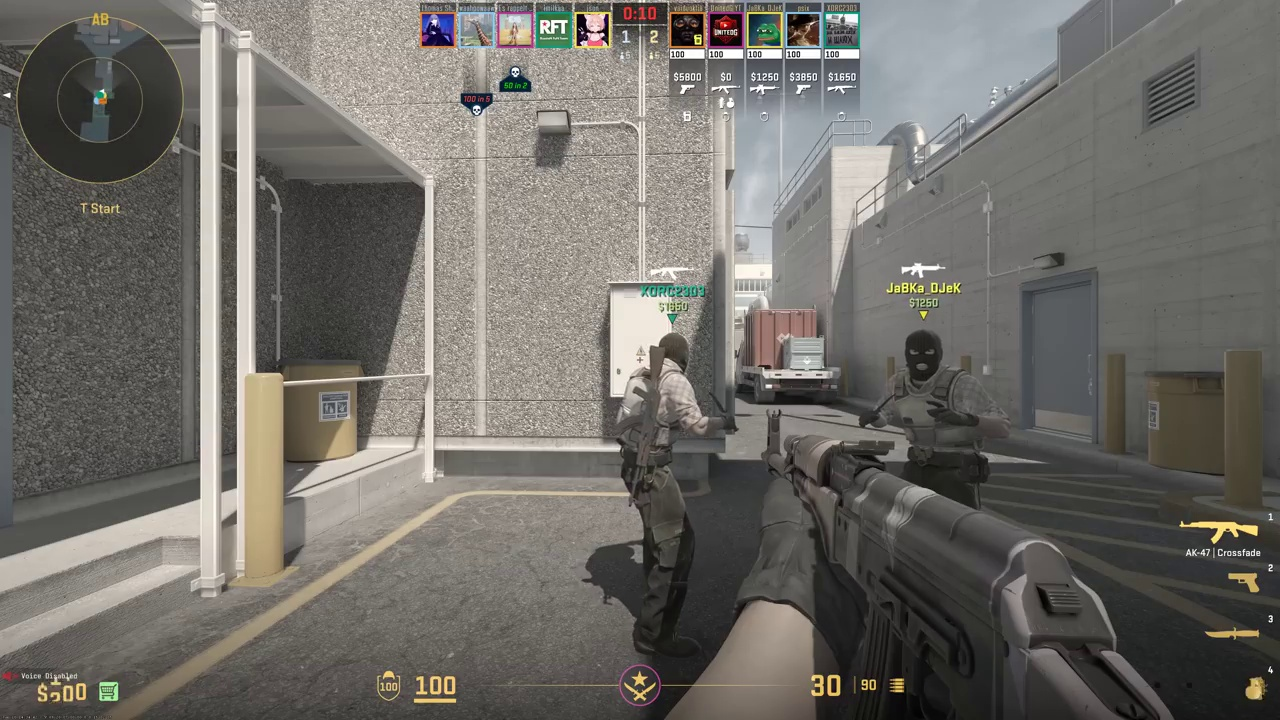Terrorist: (613, 333, 711, 660), (883, 329, 997, 508)
